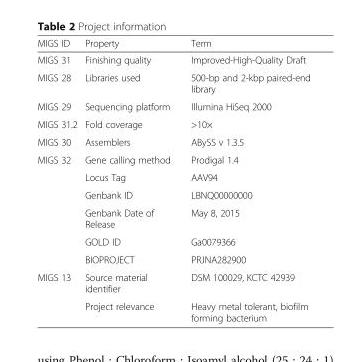table: (36, 37, 309, 322)
table column: (179, 37, 309, 322), (80, 37, 179, 322), (36, 37, 80, 322)
table column header: (36, 37, 309, 51)
table row: (36, 68, 309, 97), (36, 203, 309, 232), (36, 268, 309, 297), (36, 297, 309, 322), (36, 97, 309, 115), (36, 132, 309, 150), (36, 150, 309, 168), (36, 185, 309, 203), (36, 232, 309, 250), (36, 250, 309, 268), (36, 51, 309, 68), (36, 115, 309, 132), (36, 168, 309, 185), (36, 37, 309, 51)
table spanning cell: (36, 150, 80, 268), (36, 268, 80, 322)
